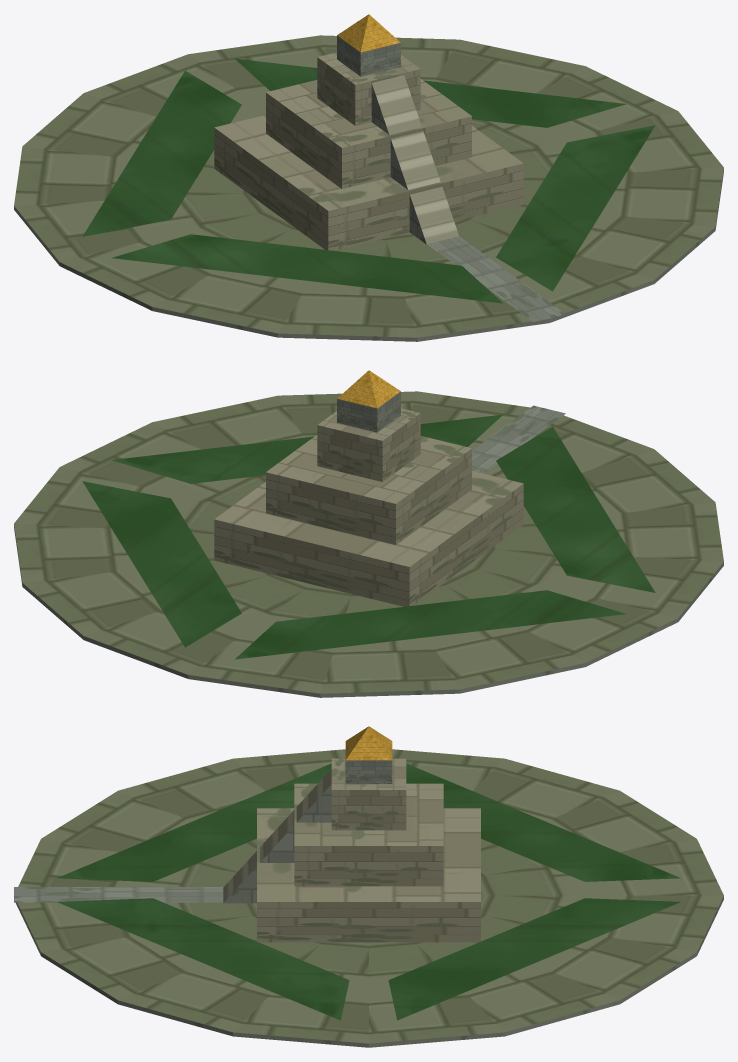
File: pyramid_small_lod2.glb
3 views of the same model, one above another, from view 1: azimuth 30°, elevation 25°; view 2: azimuth 150°, elevation 25°; view 3: azimuth 270°, elevation 25° (orthographic).
Visible parts, largest first — view 1: pyramid_small_lod2; view 2: pyramid_small_lod2; view 3: pyramid_small_lod2.
Part boxes in pixels (box(x1,y1,x2,y2)): pyramid_small_lod2: box(14, 14, 723, 341); pyramid_small_lod2: box(14, 370, 723, 697); pyramid_small_lod2: box(14, 726, 723, 1047).
Bounding box in the file's own units: 1.88 × 0.512 × 1.9.
1 material, 1 textured.
